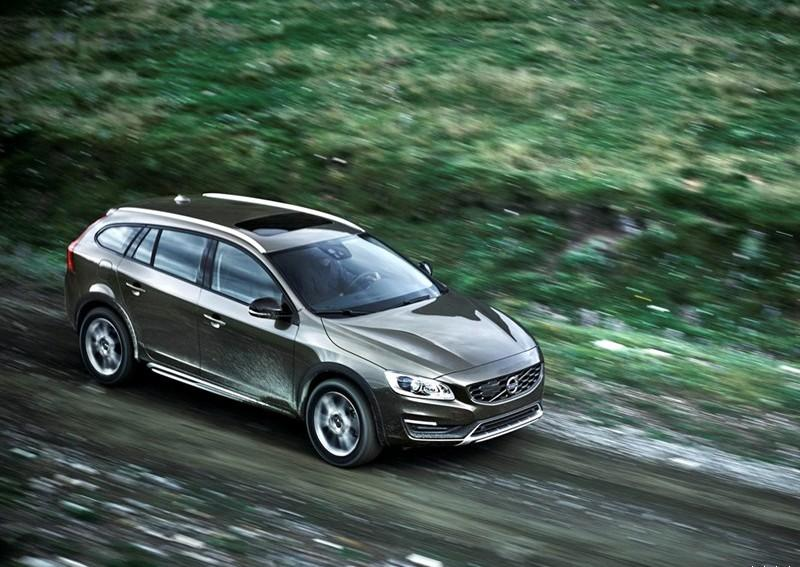Wagon: (59, 186, 550, 470)
